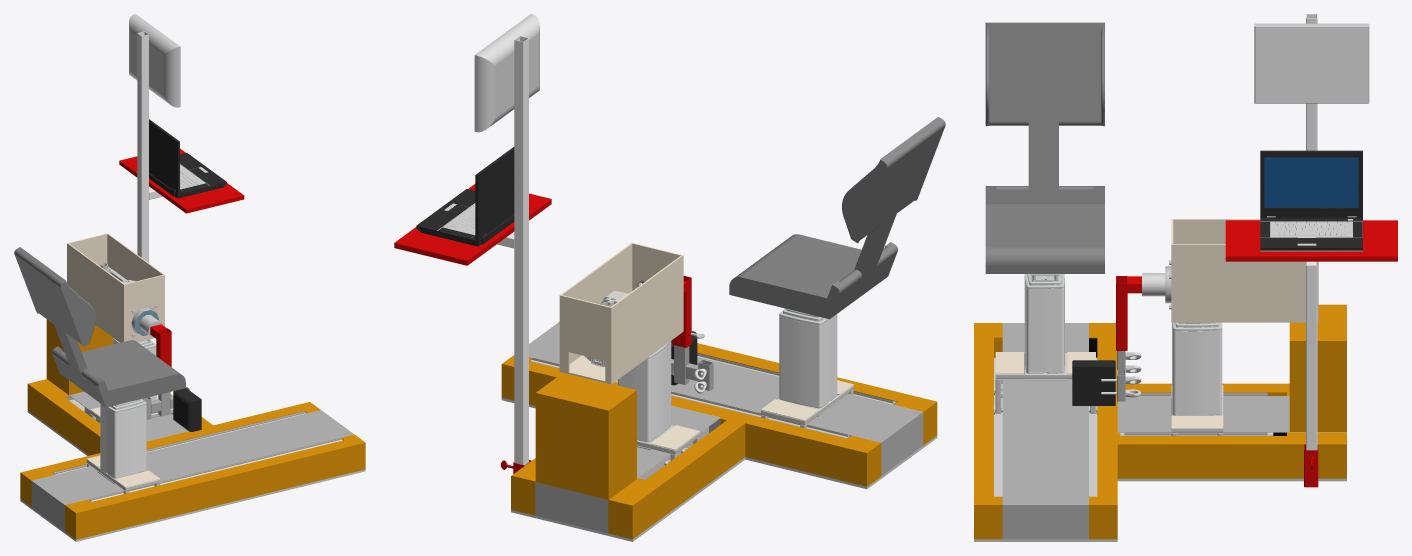
The model's file is EQUIPO_ISOCINESIA.glb.
3 renders of one model, left to right at view 1: azimuth 30°, elevation 25°; view 2: azimuth 150°, elevation 25°; view 3: azimuth 270°, elevation 25°, orthographic. The views are drawn at different scales.
Parts seen in each view (by area): view 1: EQUIPO_ISOCINESIA; view 2: EQUIPO_ISOCINESIA; view 3: EQUIPO_ISOCINESIA.
Boxes of the visible parts, x1,y1,x2,y2 form: EQUIPO_ISOCINESIA: (14, 14, 365, 541); EQUIPO_ISOCINESIA: (394, 14, 945, 541); EQUIPO_ISOCINESIA: (974, 14, 1397, 541).
Size of the model in its own units: 1.56 by 1.8 by 1.48.
Materials: 24 (1 with a texture image).
